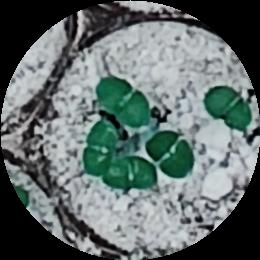Basil: (144, 128, 196, 178), (99, 77, 149, 125), (204, 86, 256, 131), (103, 156, 155, 192), (87, 122, 115, 178)
